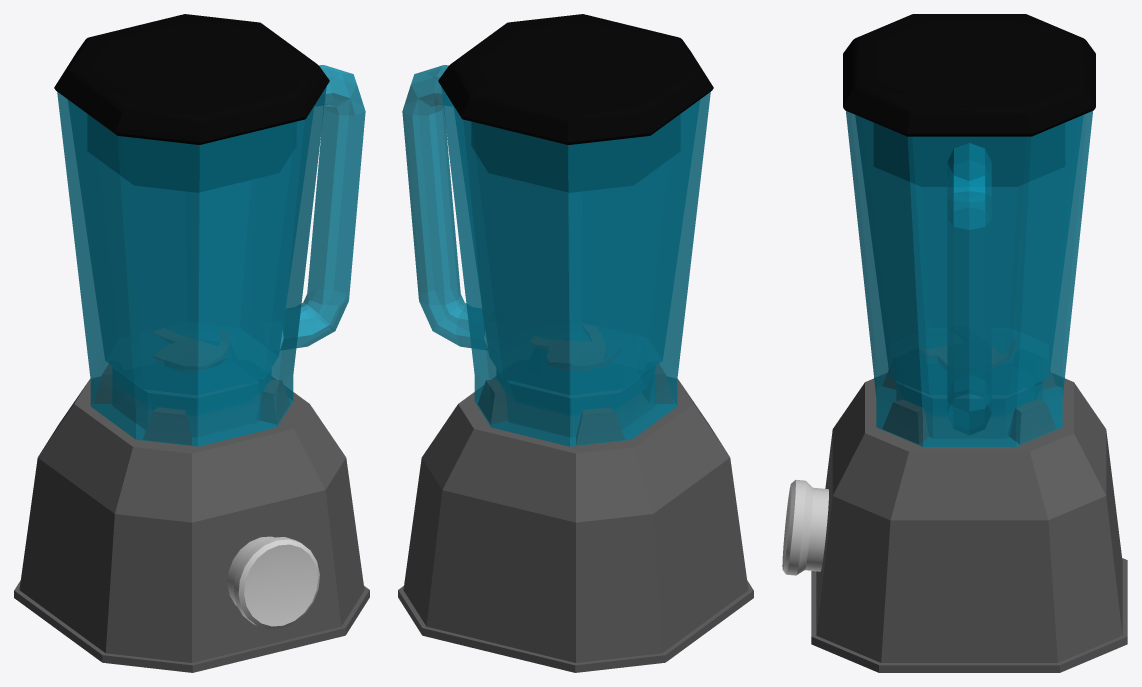
File: Blender.fbx
3 renders of one model, left to right at view 1: azimuth 30°, elevation 25°; view 2: azimuth 150°, elevation 25°; view 3: azimuth 270°, elevation 25°, orthographic. The views are drawn at different scales.
Parts seen in each view (by area): view 1: Blender; view 2: Blender; view 3: Blender.
Boxes of the visible parts, <box> form: Blender: <box>14,14,369,672</box>; Blender: <box>398,14,753,672</box>; Blender: <box>782,14,1127,672</box>.
Size of the model in its own units: 29.81 by 49.75 by 28.51.
